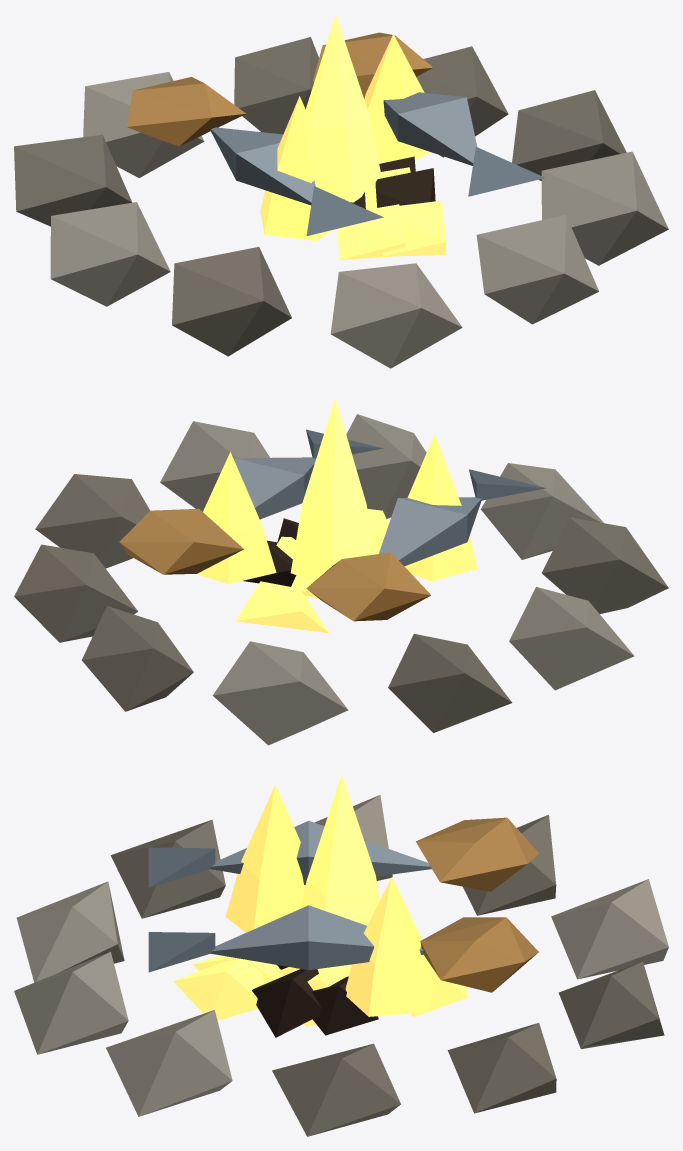
File: charcoal.glb
The picture shows the model from 3 angles, top to bottom: view 1: azimuth 30°, elevation 25°; view 2: azimuth 150°, elevation 25°; view 3: azimuth 270°, elevation 25°; orthographic projection. The views are drawn at different scales.
Visible parts, largest first — view 1: base, flame_m; view 2: base, flame_m; view 3: base, flame_m.
Part boxes in pixels (x1,y1,x2,y2): base: [14, 32, 668, 368]; flame_m: [260, 15, 429, 240]; base: [14, 414, 668, 745]; flame_m: [196, 398, 477, 584]; base: [14, 795, 668, 1136]; flame_m: [225, 774, 434, 1016].
Size of the model in its own units: 0.423 by 0.1639 by 0.393.
